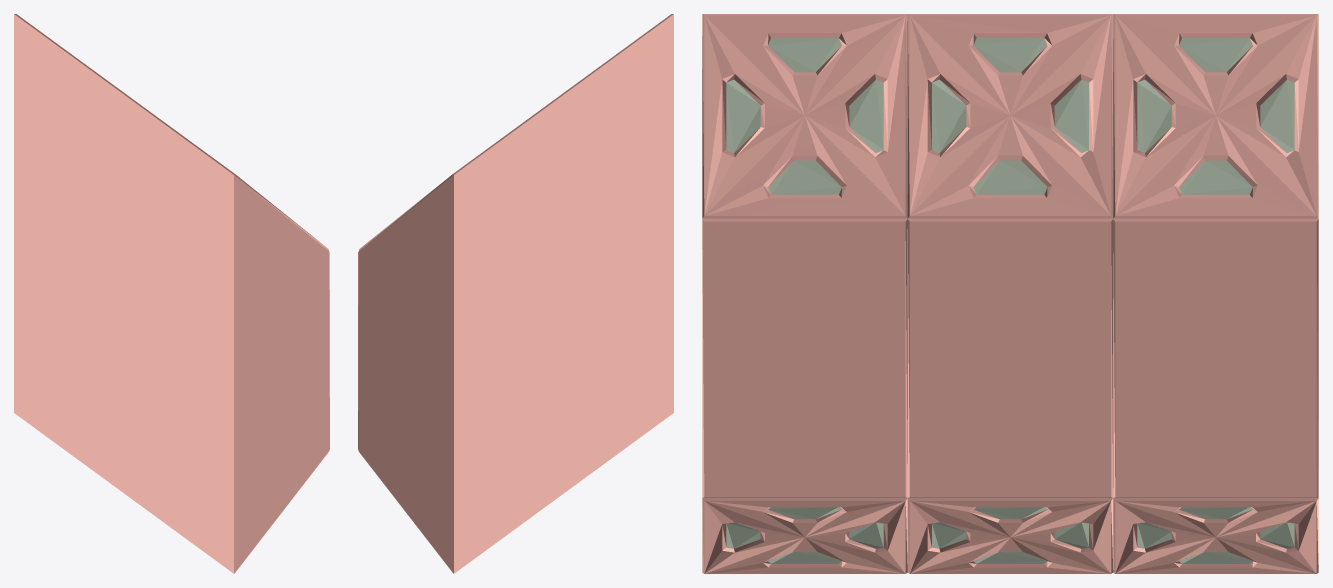
File: uee_stanton_kit_ext_wall_0x8x8_07_reg.glb
The picture shows the model from 3 angles, left to right: view 1: azimuth 30°, elevation 25°; view 2: azimuth 150°, elevation 25°; view 3: azimuth 270°, elevation 25°; orthographic projection. The views are drawn at different scales.
Size of the model in its own units: 2.03 by 8 by 8.
